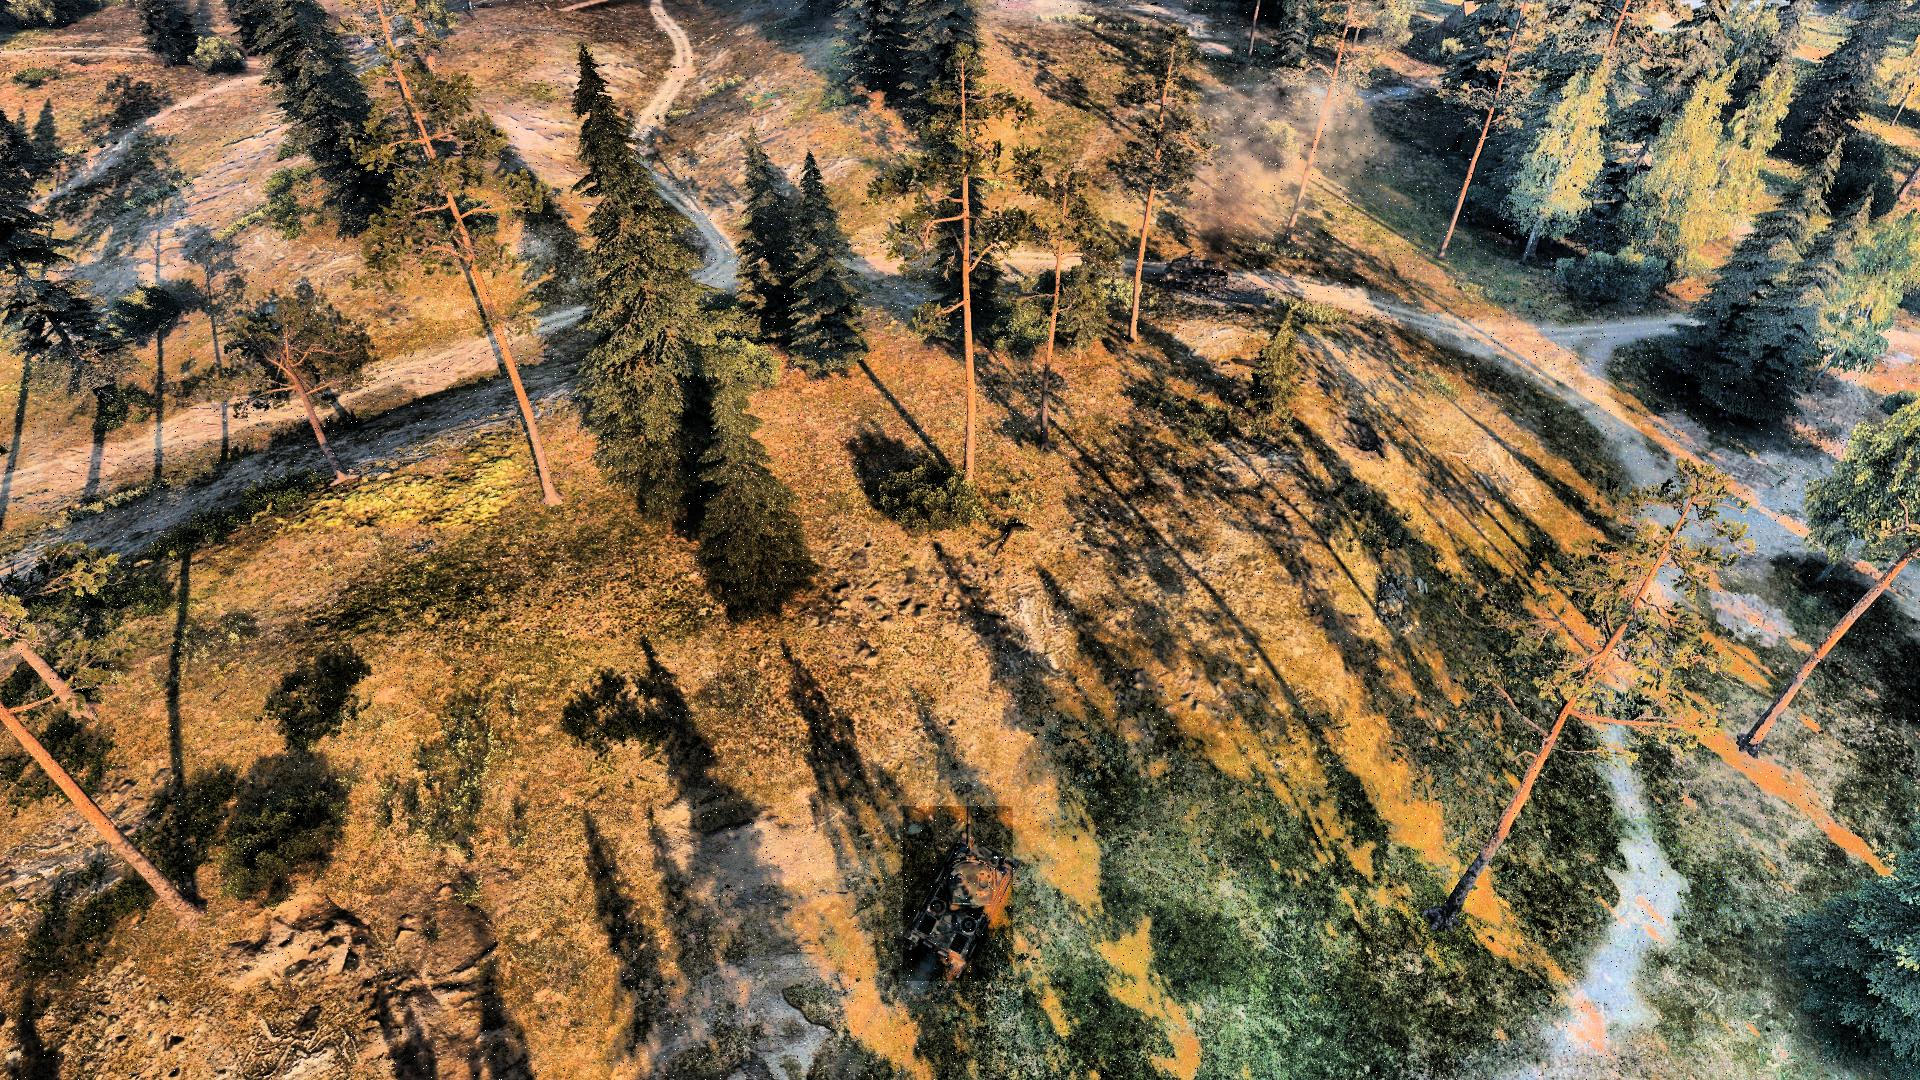military-vehicle: (903, 807, 1013, 981)
